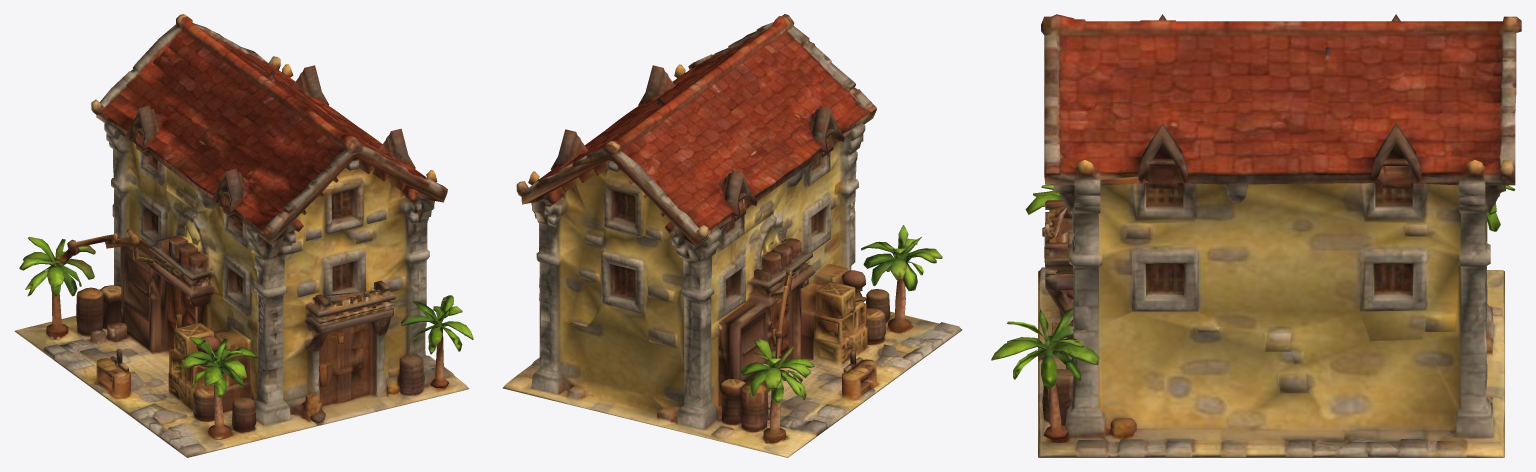
The model's file is almacen_tripo_2.glb.
The picture shows the model from 3 angles, left to right: view 1: azimuth 30°, elevation 25°; view 2: azimuth 150°, elevation 25°; view 3: azimuth 270°, elevation 25°; orthographic projection. The views are drawn at different scales.
Parts seen in each view (by area): view 1: tripo_node_e70bf7fe-8642-4845-81b7-c92b48cc3ee5; view 2: tripo_node_e70bf7fe-8642-4845-81b7-c92b48cc3ee5; view 3: tripo_node_e70bf7fe-8642-4845-81b7-c92b48cc3ee5.
Part boxes in pixels (x1,y1,x2,y2): tripo_node_e70bf7fe-8642-4845-81b7-c92b48cc3ee5: (14,14,473,457); tripo_node_e70bf7fe-8642-4845-81b7-c92b48cc3ee5: (502,14,962,457); tripo_node_e70bf7fe-8642-4845-81b7-c92b48cc3ee5: (991,14,1521,457).
Size of the model in its own units: 0.8394 by 0.7551 by 0.9817.
Materials: 1 (1 with a texture image).
